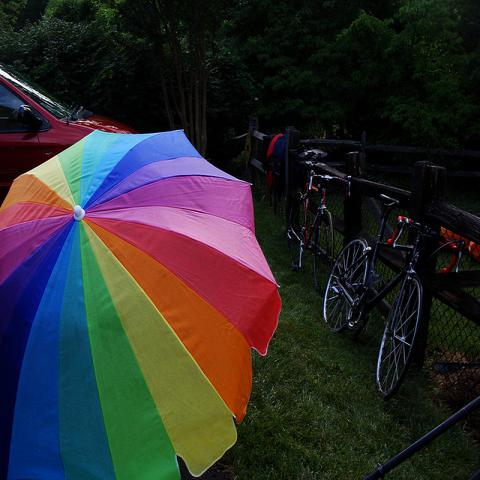car: (1, 64, 138, 205)
